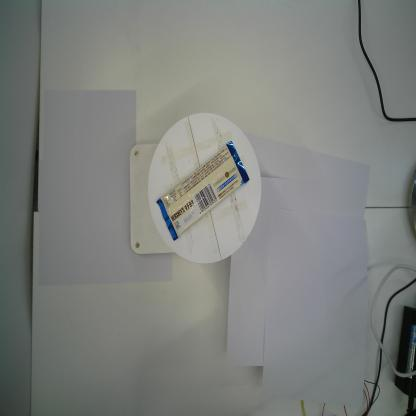Chocolate: (155, 138, 251, 244)
